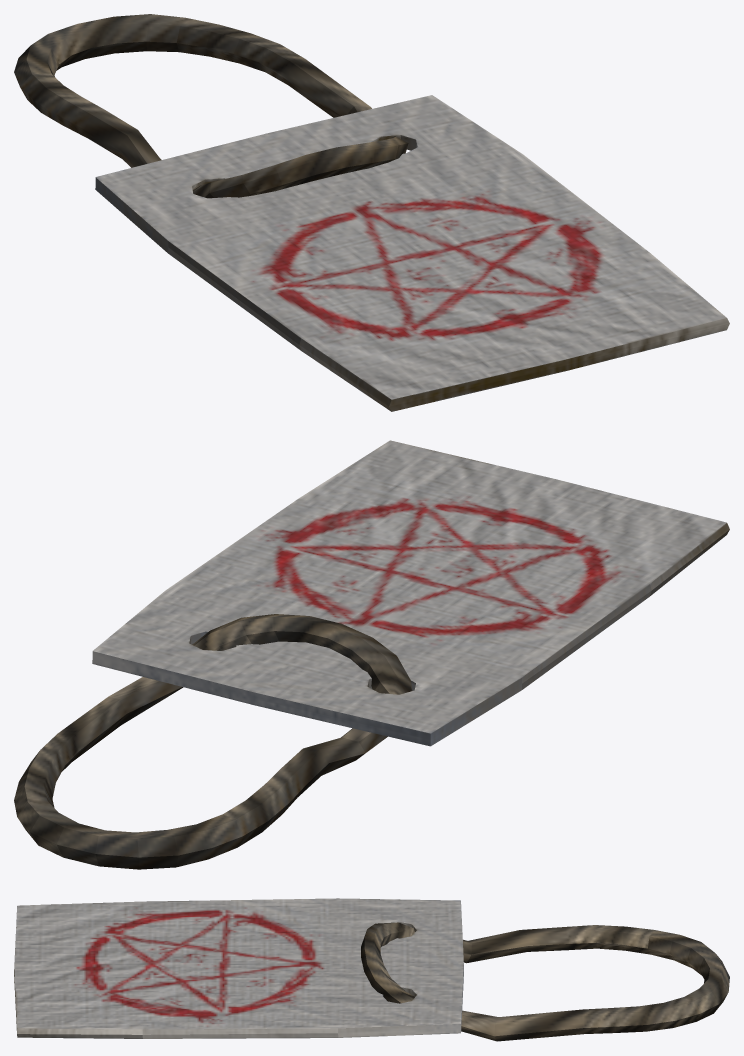
Rendered from WorldItem-CultistSign.fbx.
3 views of the same model, one above another, from view 1: azimuth 30°, elevation 25°; view 2: azimuth 150°, elevation 25°; view 3: azimuth 270°, elevation 25° (orthographic). The views are drawn at different scales.
Visible parts, largest first — view 1: Cultist Sign; view 2: Cultist Sign; view 3: Cultist Sign.
Boxes of the visible parts, x1=… form: Cultist Sign: x1=14, y1=14, x2=729, y2=411; Cultist Sign: x1=14, y1=440, x2=729, y2=869; Cultist Sign: x1=14, y1=898, x2=729, y2=1041.
Bounding box in the file's own units: 0.2415 × 0.0462 × 0.5622.
